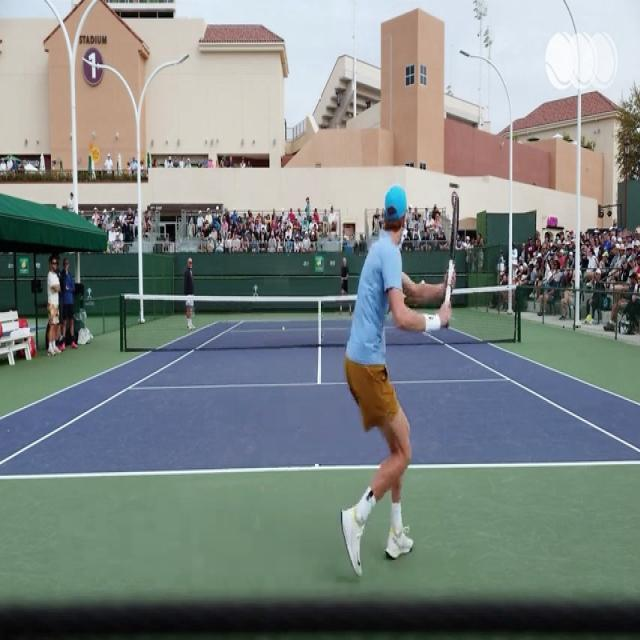forehand-ready: (339, 176, 464, 571)
